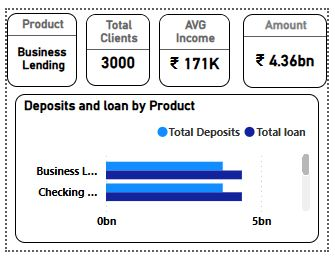

The page's visual inventory and layout, read from the dashboard file:
{"tool":"powerbi","page":{"name":"Tool Tip","canvas":[320,240],"ordinal":6},"visuals":[{"type":"card","title":"Product ","fields":{"Values":["Min(Product Usage Table.Product)"]},"box":[0,3.3,70,73.3],"z":0},{"type":"card","title":"Total Clients","fields":{"Values":["Banking.Total clients"]},"box":[78.9,4.4,64.4,71.1],"z":1000},{"type":"card","title":"Amount","fields":{"Values":["Sum(Product Usage Table.Amount)"]},"box":[235.6,4.4,84.4,73.3],"z":2000},{"type":"card","title":"AVG Income","fields":{"Values":["All Measure.AVG Income"]},"box":[152.2,4.4,71.1,72.2],"z":3000},{"type":"clusteredBarChart","title":" Deposits and  loan by Product","fields":{"Category":["Product Usage Table.Product"],"Y":["All Measure.Total Deposits","All Measure.Total loan"]},"box":[8,84,304,149],"z":4000}]}

Visuals, with their boxes in screenshot pixels (x1, y1, x2, y2), scaled from the page's 320x240 canvas onto the 335x258 screenshot:
"Product " card: region(0, 4, 73, 82)
"Total Clients" card: region(83, 5, 150, 81)
"Amount" card: region(247, 5, 334, 84)
"AVG Income" card: region(159, 5, 234, 82)
" Deposits and  loan by Product" clusteredBarChart: region(8, 90, 327, 250)
